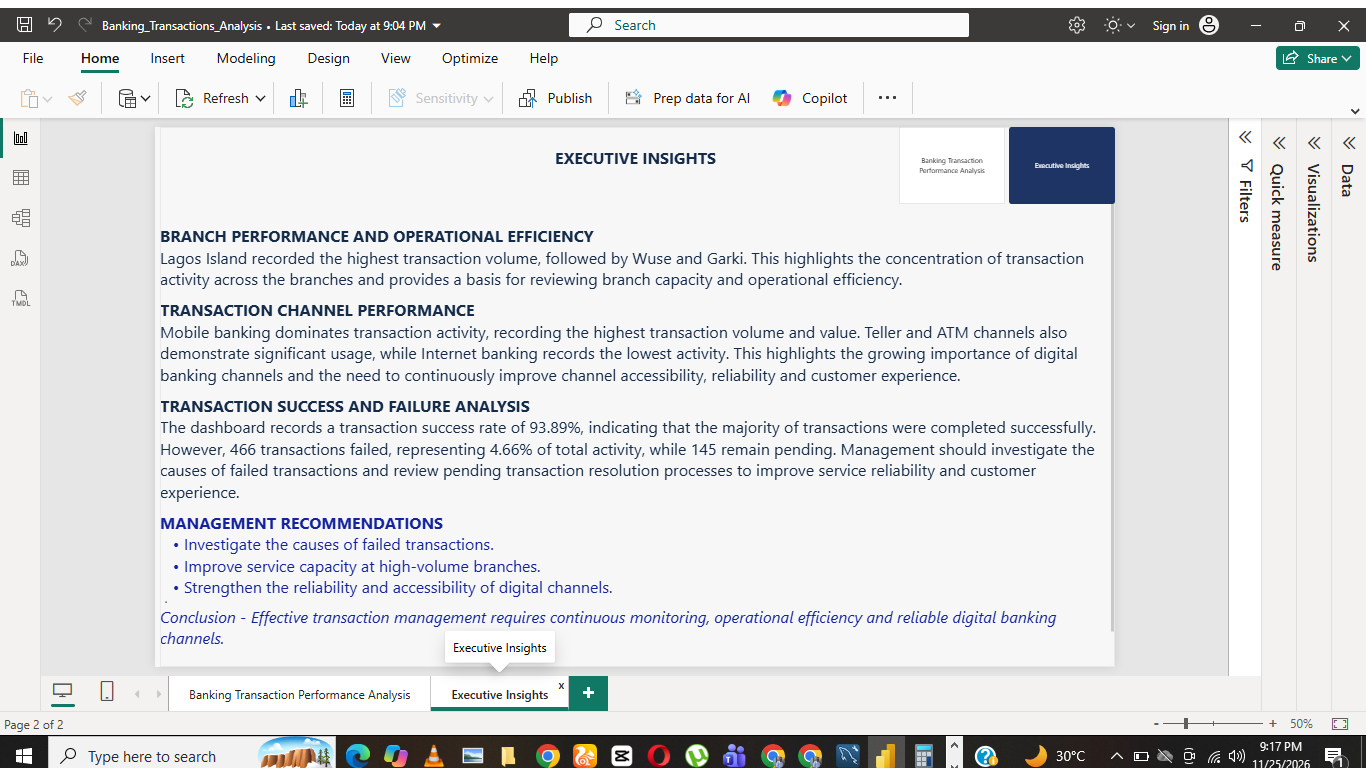

The dashboard page shown, as its layout file describes it:
{"tool":"powerbi","page":{"name":"Executive Insights","canvas":[1920,1080],"ordinal":1},"visuals":[{"type":"textbox","box":[10,0,1910,1080],"z":0},{"type":"pageNavigator","box":[1488,0,432,154],"z":1}]}

Visuals, with their boxes in screenshot pixels (x1, y1, x2, y2):
textbox: (x1=0, y1=4, x2=1274, y2=734)
pageNavigator: (x1=982, y1=4, x2=1274, y2=108)
